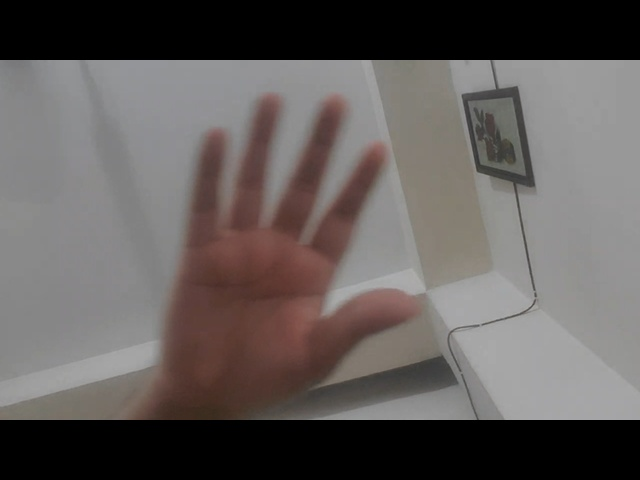Hello: (135, 87, 428, 408)
